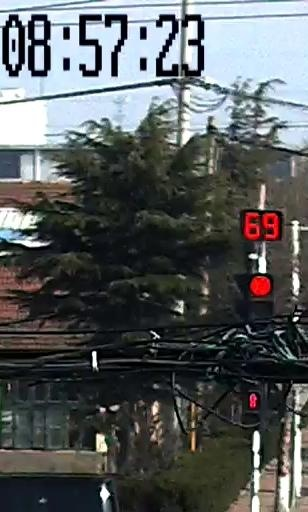red: (248, 271, 275, 297)
redpeople: (245, 389, 263, 412)
redtime: (241, 209, 287, 243)
